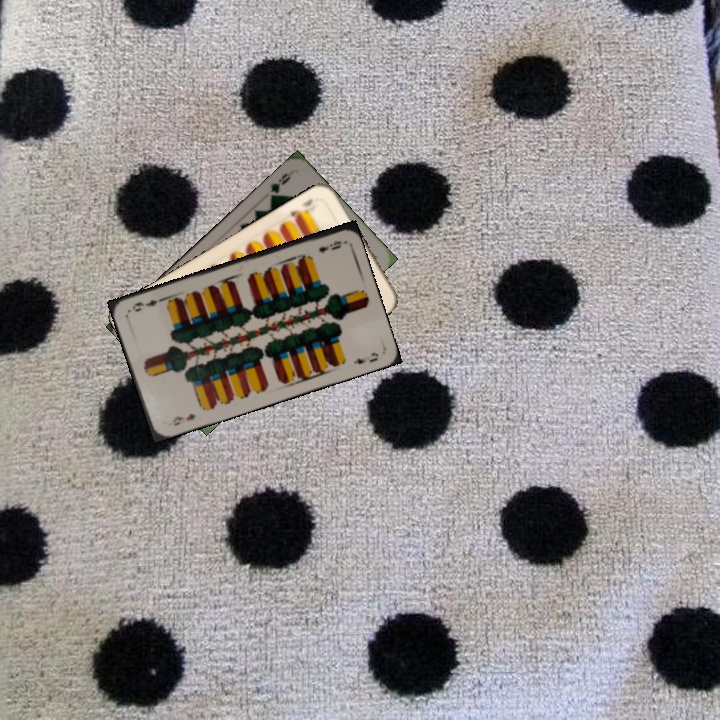E10: (284, 194, 316, 223)
E9: (168, 409, 198, 429), (315, 236, 344, 255)
G9: (266, 167, 296, 203)
